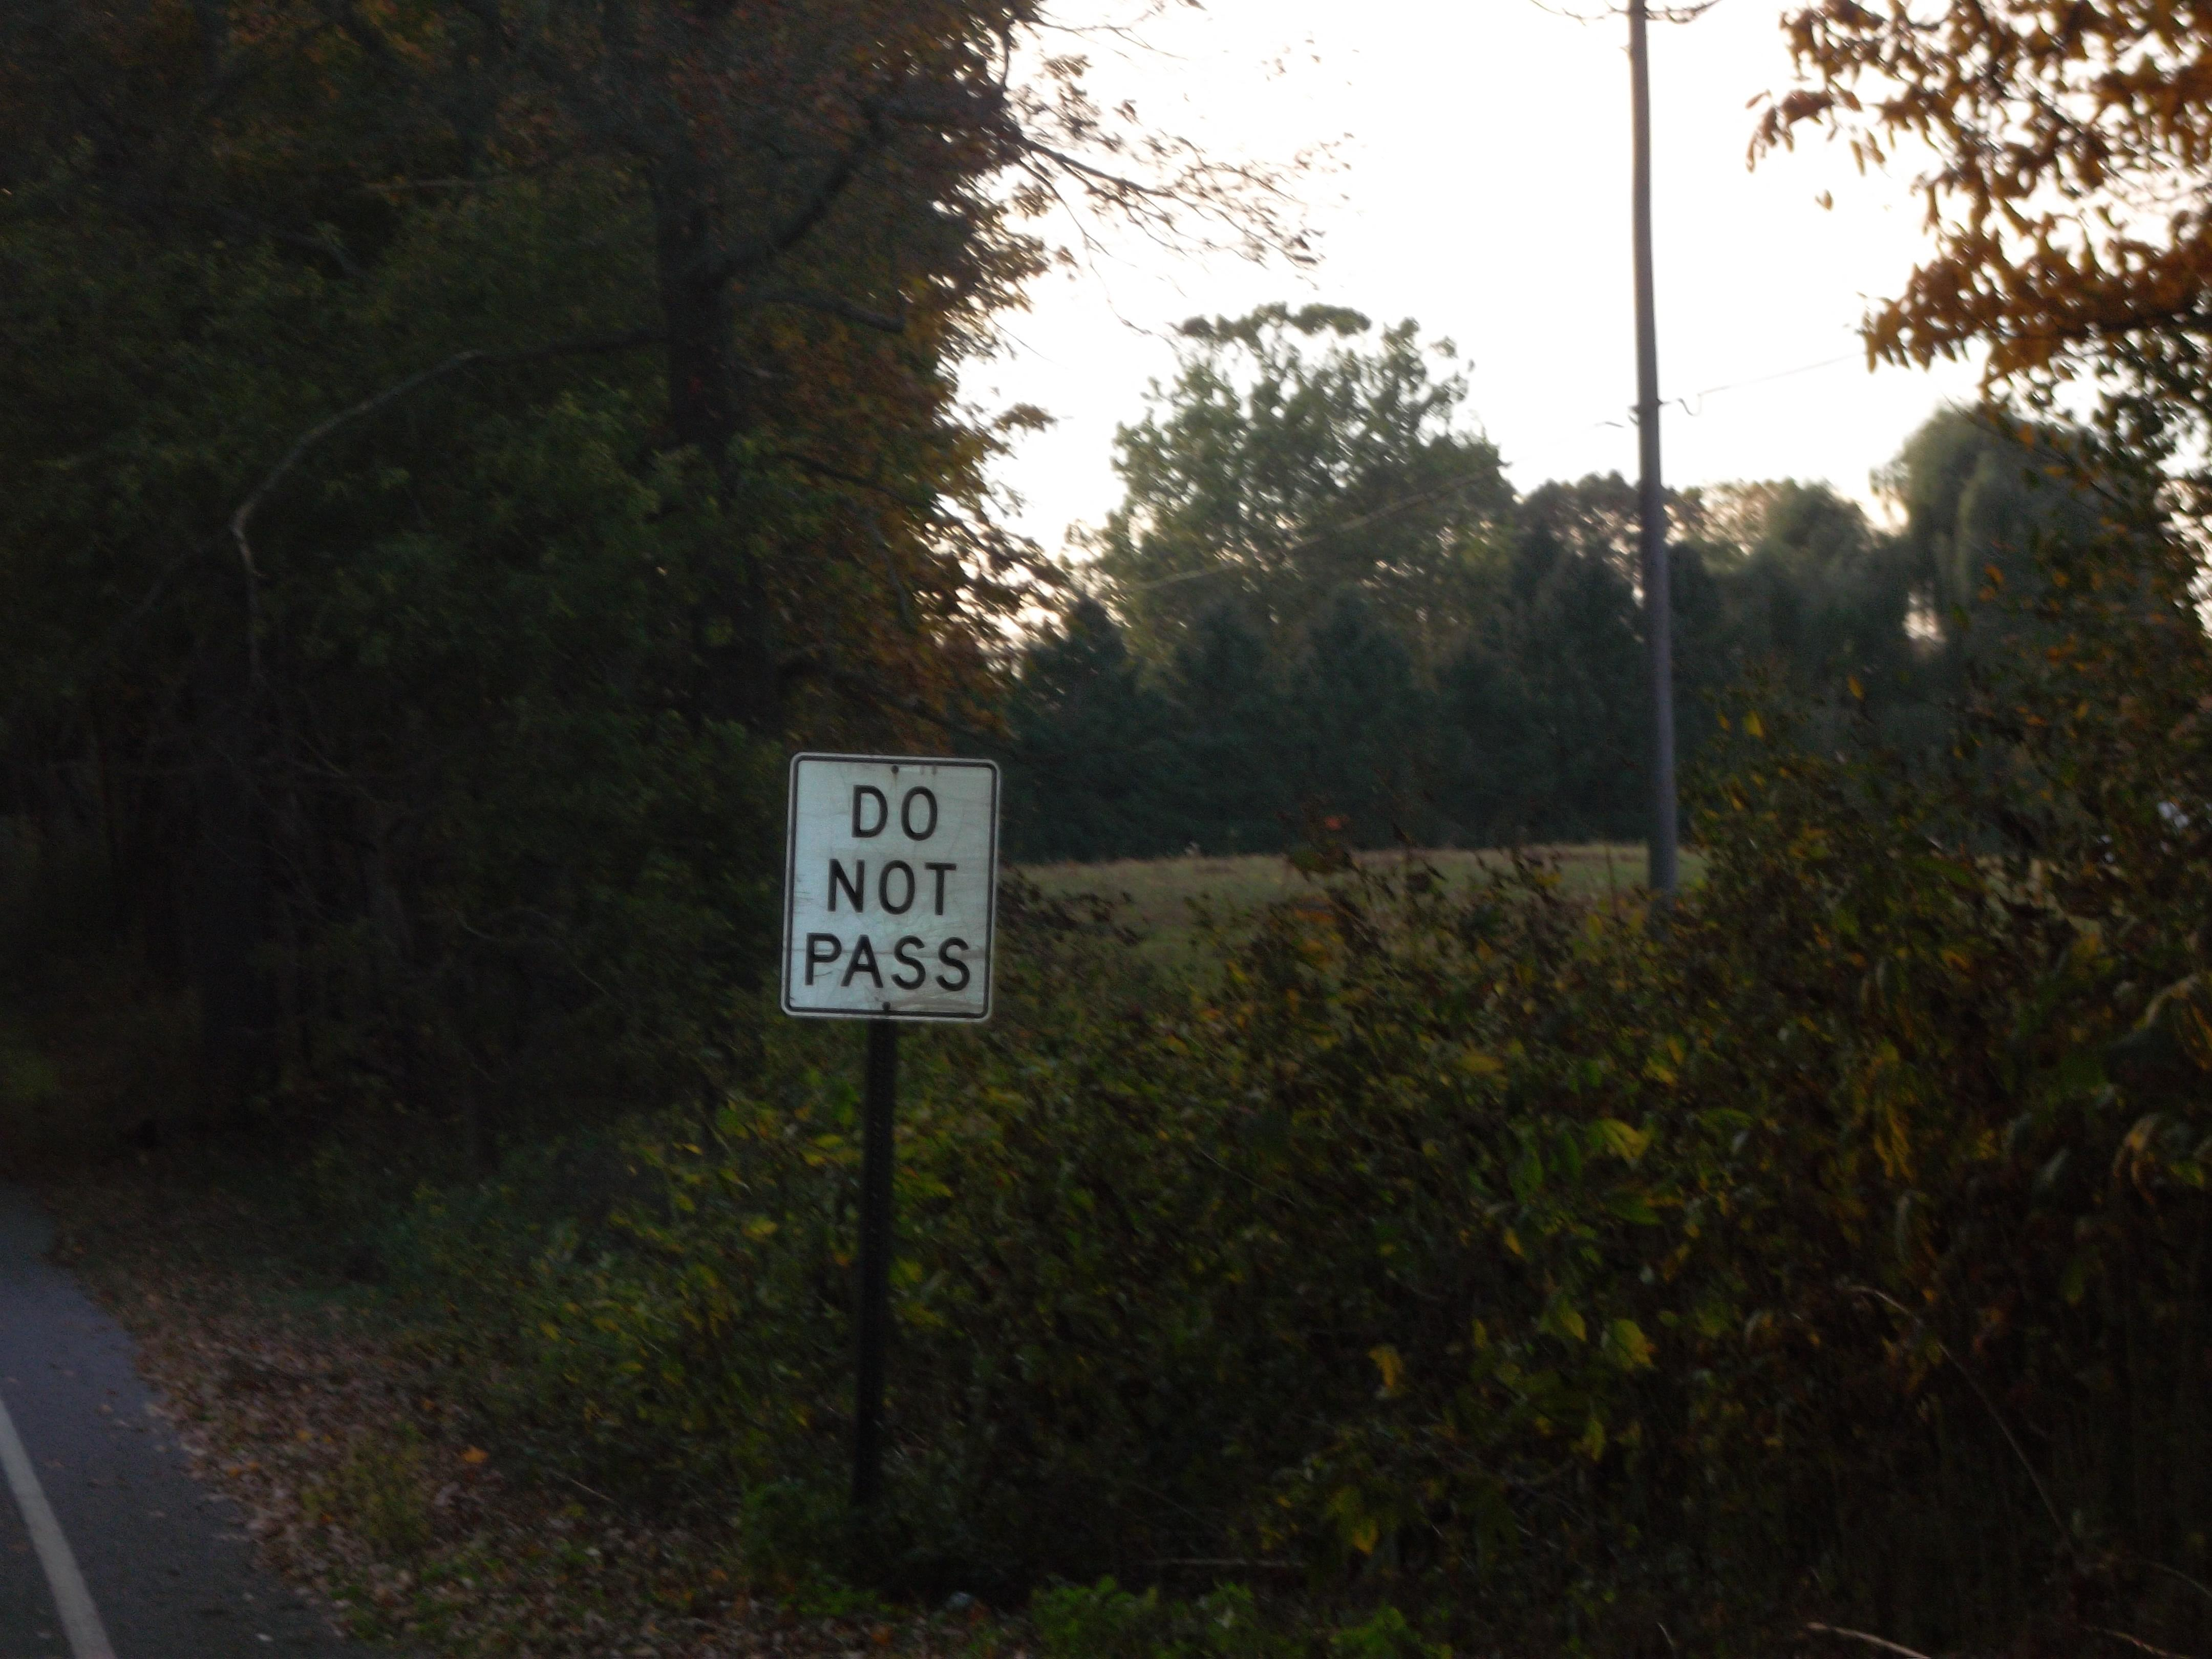regulatory: (766, 739, 1007, 1039)
